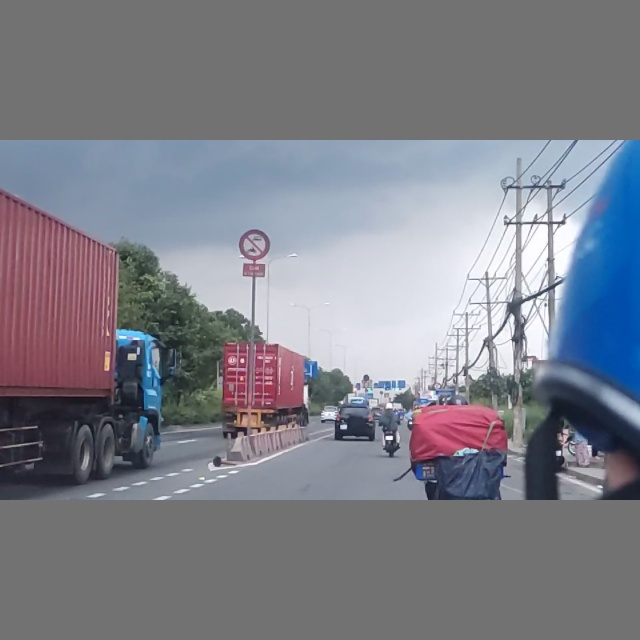P.111: (239, 229, 271, 260)
